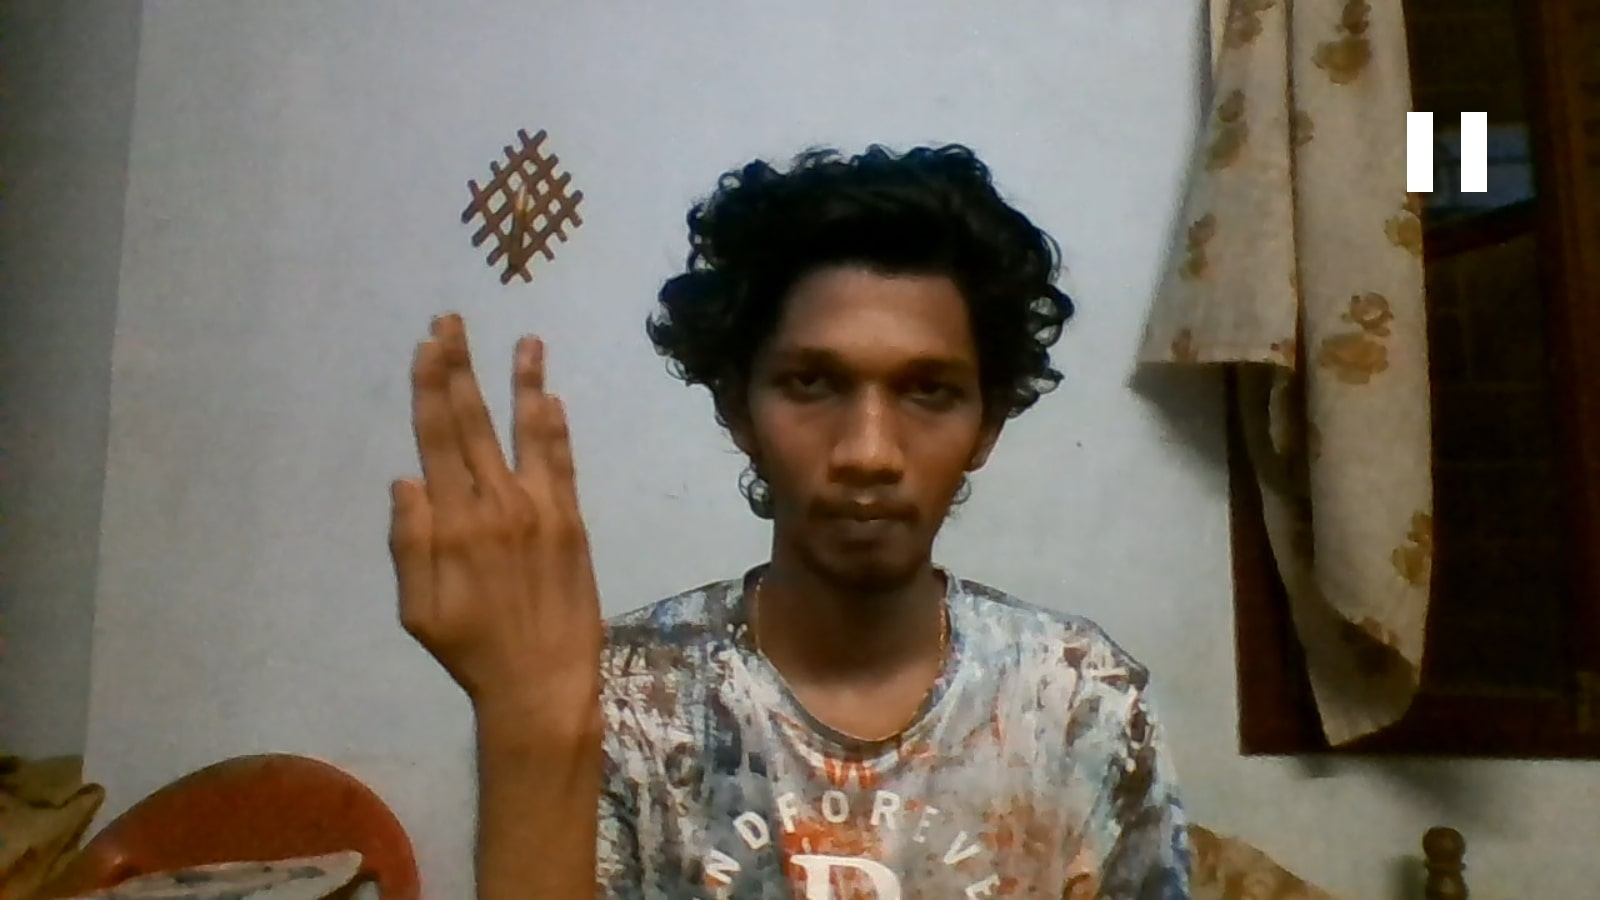LiveLong: (389, 312, 604, 749)
